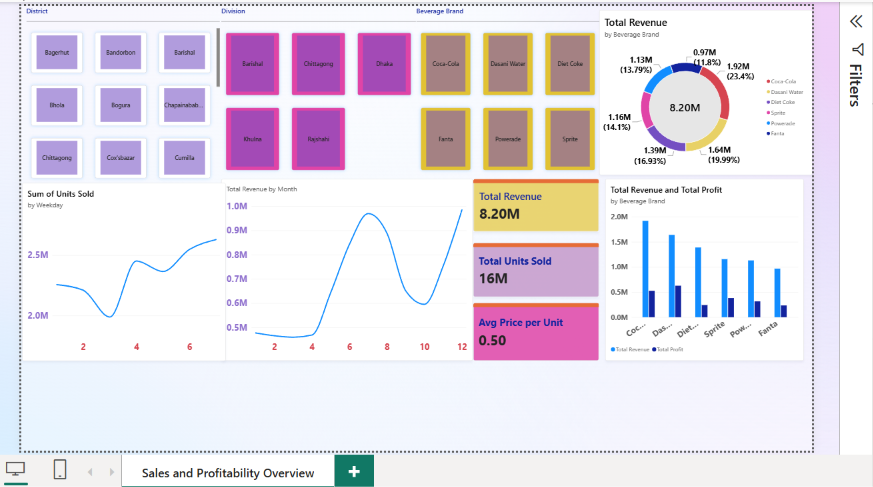

What the dashboard file says about the page in this screenshot:
{"tool":"powerbi","page":{"name":"Challenge 1","canvas":[1920,1080],"ordinal":0},"visuals":[{"type":"advancedSlicerVisual","fields":{"Values":["Data.District"]},"box":[11.9,0,470,429.5],"z":0},{"type":"advancedSlicerVisual","fields":{"Values":["Data.Division"]},"box":[486.7,0,472.4,410.4],"z":1000},{"type":"advancedSlicerVisual","fields":{"Values":["Data.Beverage Brand"]},"box":[959.1,0,446.2,410.4],"z":2000},{"type":"cardVisual","fields":{"Data":["Data.Total Revenue"]},"box":[1097.5,419.9,305.4,128.8],"z":3000},{"type":"cardVisual","fields":{"Data":["Sum(Data.Units Sold)"]},"box":[1097.5,575,305.4,131.2],"z":4000},{"type":"cardVisual","fields":{"Data":["Data.Avg Price per Unit"]},"box":[1097.5,720.5,305.4,140.8],"z":5000},{"type":"lineChart","fields":{"Category":["Data.Month"],"Y":["Data.Total Revenue"]},"box":[486.7,419.9,610.8,441.4],"z":6000},{"type":"lineChart","fields":{"Category":["Dates.Weekday"],"Y":["Sum(Data.Units Sold)"]},"box":[2.4,429.5,493.9,431.9],"z":7000},{"type":"donutChart","fields":{"Category":["Data.Beverage Brand"],"Y":["Data.Total Revenue"]},"box":[1402.9,9.5,517.7,400.8],"z":8000},{"type":"clusteredColumnChart","fields":{"Category":["Data.Beverage Brand"],"Y":["Data.Total Revenue","Data.Total Profit"]},"box":[1417.2,419.9,482,441.4],"z":9000},{"type":"textbox","box":[2.4,870.9,653.7,210],"z":10000}]}

Visuals, with their boxes on the page's 1920x1080 design canvas (x1, y1, x2, y2). These are canvas units, not pixel positions in the 873x487 screenshot, which may show the page scaled, cropped or inside an application window:
advancedSlicerVisual - Data.District: [12, 0, 482, 430]
advancedSlicerVisual - Data.Division: [487, 0, 959, 410]
advancedSlicerVisual - Data.Beverage Brand: [959, 0, 1405, 410]
cardVisual - Data.Total Revenue: [1098, 420, 1403, 549]
cardVisual - Sum(Data.Units Sold): [1098, 575, 1403, 706]
cardVisual - Data.Avg Price per Unit: [1098, 720, 1403, 861]
lineChart - Data.Month x Data.Total Revenue: [487, 420, 1098, 861]
lineChart - Dates.Weekday x Sum(Data.Units Sold): [2, 430, 496, 861]
donutChart - Data.Beverage Brand x Data.Total Revenue: [1403, 10, 1921, 410]
clusteredColumnChart - Data.Beverage Brand x Data.Total Revenue: [1417, 420, 1899, 861]
textbox: [2, 871, 656, 1081]
